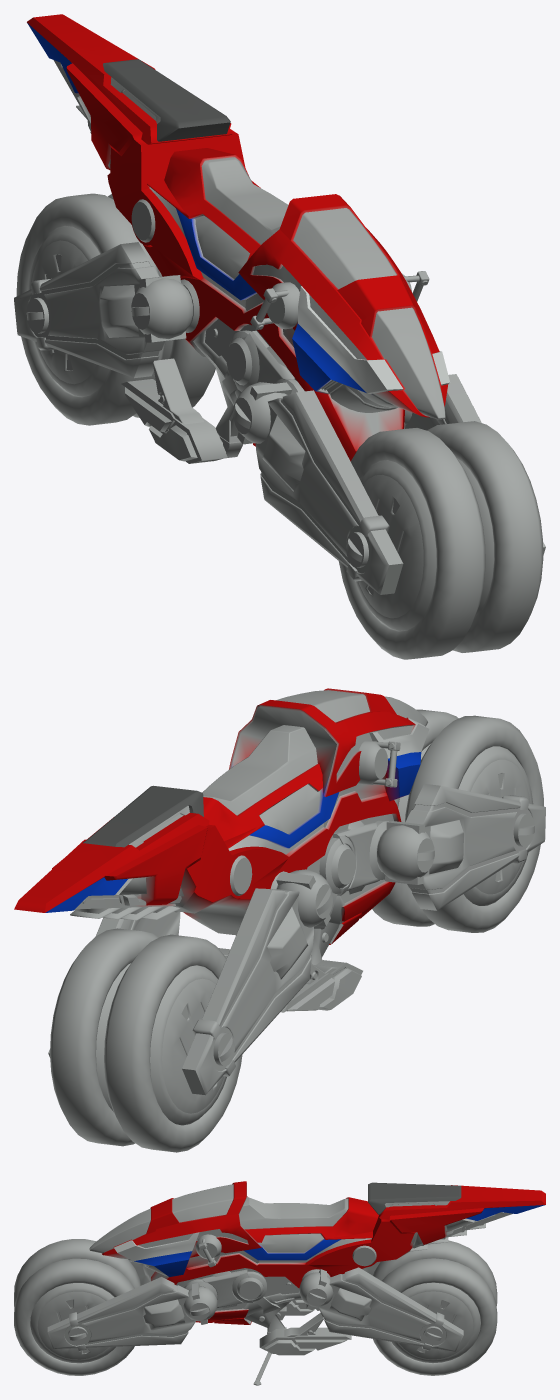
3 views of the same model, one above another, from view 1: azimuth 30°, elevation 25°; view 2: azimuth 150°, elevation 25°; view 3: azimuth 270°, elevation 25° (orthographic). The views are drawn at different scales.
Visible parts, largest first — view 1: G:\FFXIV-MapTools\exports\x6t1\bg\ex5\01_xkt_x6\twn\x6t1\bgp; view 2: G:\FFXIV-MapTools\exports\x6t1\bg\ex5\01_xkt_x6\twn\x6t1\bgp; view 3: G:\FFXIV-MapTools\exports\x6t1\bg\ex5\01_xkt_x6\twn\x6t1\bgp.
Boxes of the visible parts, bbox=[...] form: G:\FFXIV-MapTools\exports\x6t1\bg\ex5\01_xkt_x6\twn\x6t1\bgp: bbox=[14, 14, 545, 659]; G:\FFXIV-MapTools\exports\x6t1\bg\ex5\01_xkt_x6\twn\x6t1\bgp: bbox=[14, 688, 545, 1152]; G:\FFXIV-MapTools\exports\x6t1\bg\ex5\01_xkt_x6\twn\x6t1\bgp: bbox=[14, 1181, 545, 1385].
Size of the model in its own units: 0.6465 by 1.03 by 2.65.
